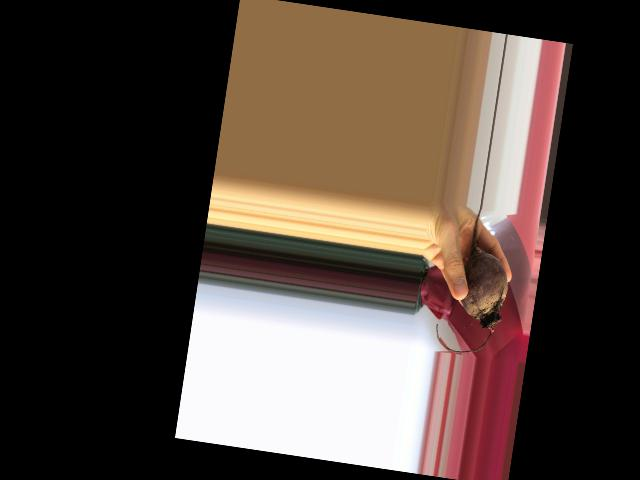beet: (432, 204, 518, 359)
